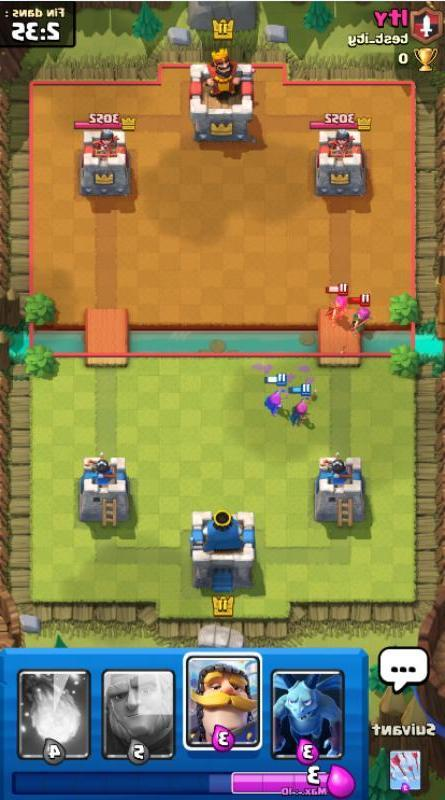enemy_archers: (349, 292, 377, 336), (325, 285, 352, 316)
player_archers: (286, 384, 319, 430), (259, 377, 290, 422)
